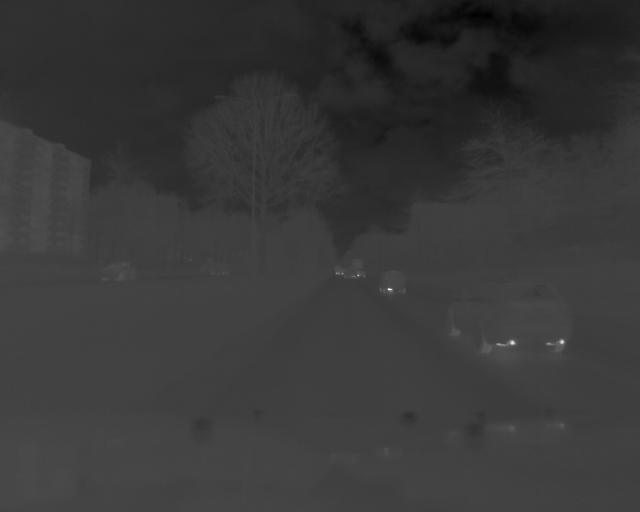car: (439, 281, 577, 360), (98, 258, 137, 286), (376, 268, 410, 299)
